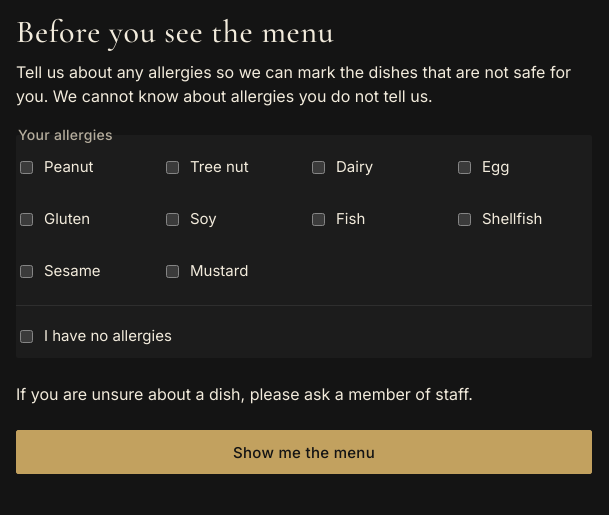
Test case: AllergyForm component › 5. blank submit shows the "unanswered" message and sends nothing
Click the button "Show me the menu" at [304, 452], box [16,430,592,474]
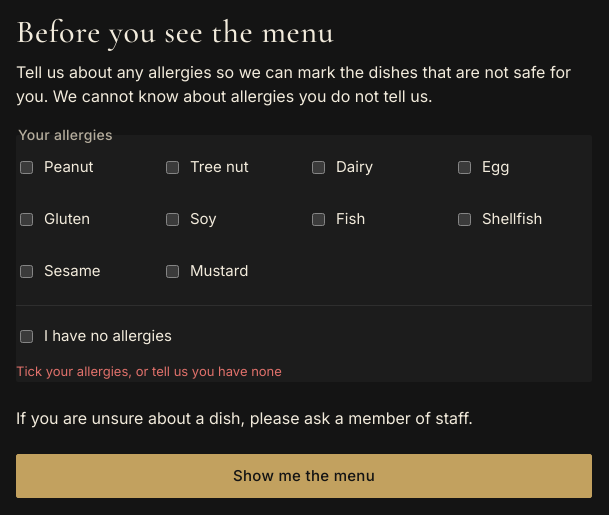
expect the text "Tick your allergies, or tell us you have none" is shown: met, box [16,363,282,379]
